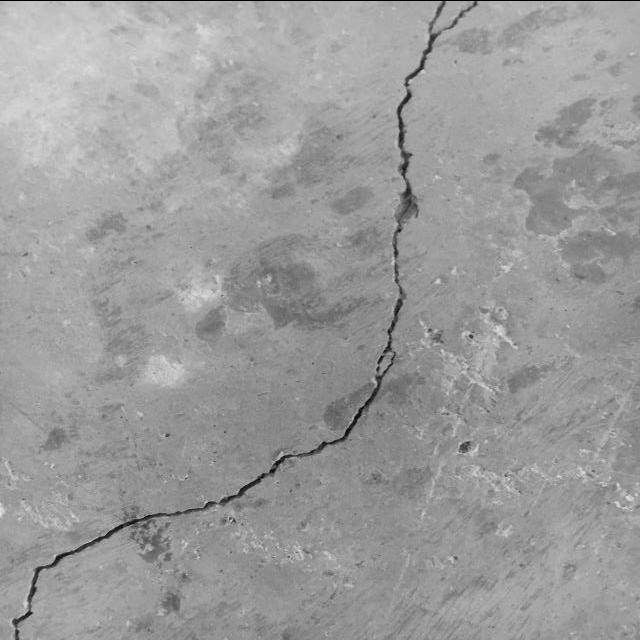SurfaceCrack: (158, 0, 624, 637)
